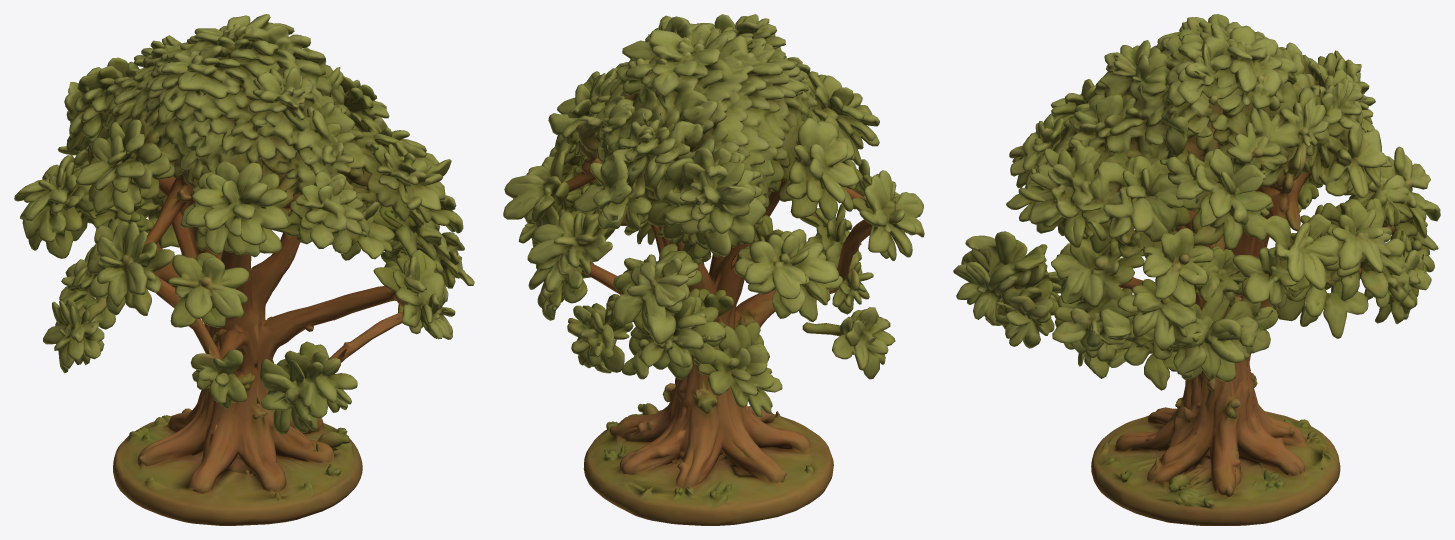
File: resized.glb
3 renders of one model, left to right at view 1: azimuth 30°, elevation 25°; view 2: azimuth 150°, elevation 25°; view 3: azimuth 270°, elevation 25°, orthographic.
Visible parts, largest first — view 1: tripo_node_ef3370e5-05ab-4f3e-9e62-27947f8e283f; view 2: tripo_node_ef3370e5-05ab-4f3e-9e62-27947f8e283f; view 3: tripo_node_ef3370e5-05ab-4f3e-9e62-27947f8e283f.
Part boxes in pixels (left/top/right/bottom): tripo_node_ef3370e5-05ab-4f3e-9e62-27947f8e283f: left=14, top=14, right=474, bottom=525; tripo_node_ef3370e5-05ab-4f3e-9e62-27947f8e283f: left=503, top=14, right=924, bottom=525; tripo_node_ef3370e5-05ab-4f3e-9e62-27947f8e283f: left=953, top=14, right=1440, bottom=525.
Bounding box in the file's own units: 0.8495 × 0.9791 × 0.9593.
Materials: 1 (1 with a texture image).
